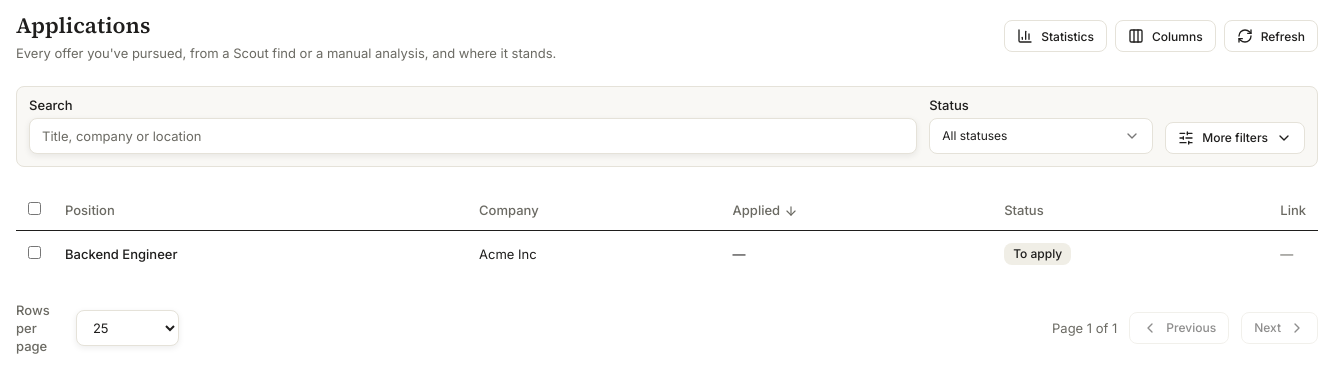
Test: ApplicationsPage — table (#236) › says so when no Application matches the filters
This screenshot has width=1335, height=371.
Expected: the text "Backend Engineer" is shown, [53,231,467,277]
In the search field labelled "Search": (473,136) [29,118,917,154], type "nothing like it"
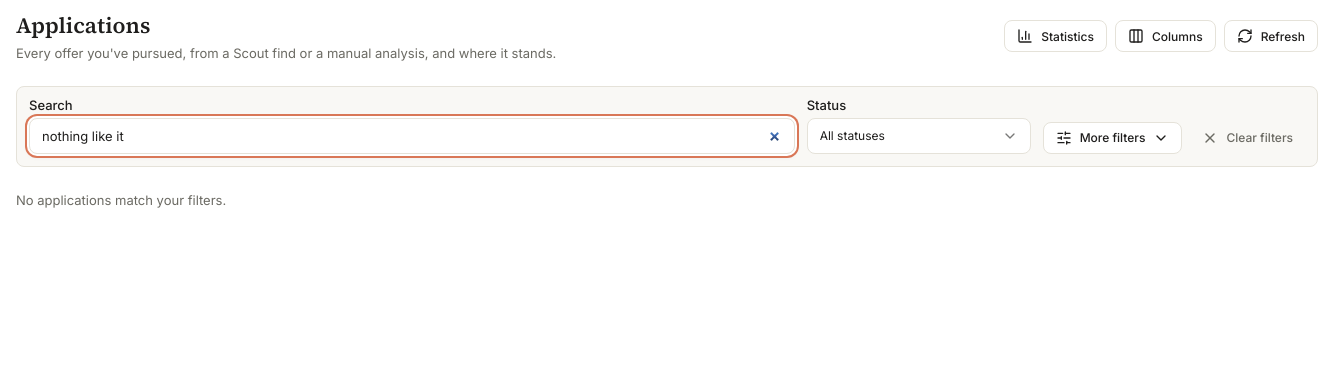
Expected: the text "No applications match your filters." is shown, [16,192,226,208]
